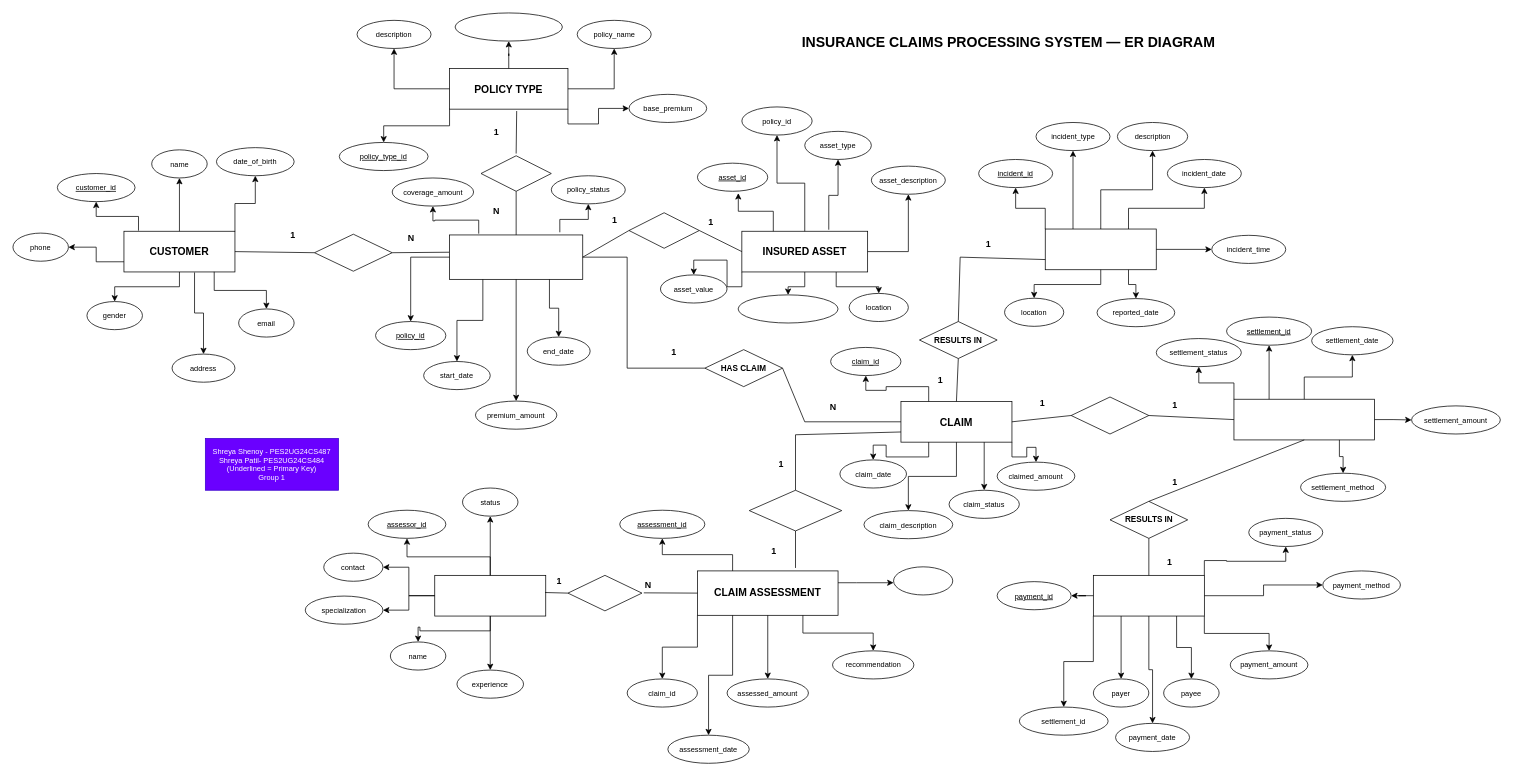
The diagram is 1513 pixels wide and 776 high, and some of its shapes have lost their labels. The centre of each missing label's shape, as x and y in pixels:
"ASSESSOR" belongs at pixel 490 595.
"CLAIM SETTLEMENT" belongs at pixel 1304 419.
"COVERS" belongs at pixel 663 230.
"default_coverage_amount" belongs at pixel 508 26.
"HAS ASSESSMENT" belongs at pixel 795 510.
"INCIDENT" belongs at pixel 1100 249.
"INSURANCE POLICY" belongs at pixel 516 256.
"OF TYPE" belongs at pixel 515 173.
"PAYMENT" belongs at pixel 1148 595.
"PERFORMS" belongs at pixel 604 593.
"PURCHASES" belongs at pixel 353 252.
"registration_or_reference_no" belongs at pixel 787 308.
"remarks" belongs at pixel 923 580.
"SETTLED AS" belongs at pixel 1109 415.
